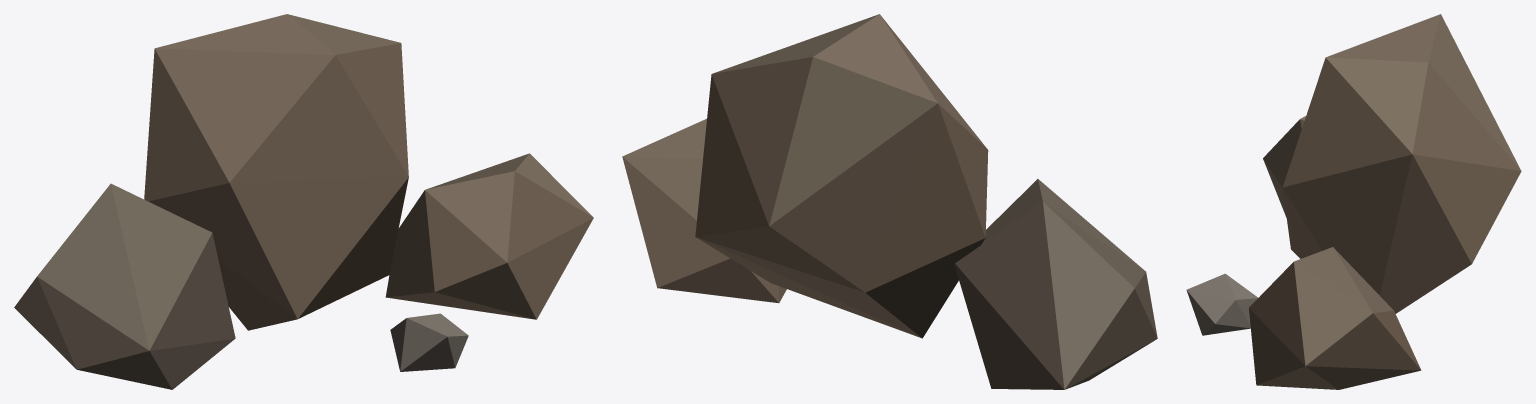
The model's file is tl_env_rock_cluster_b_v01.glb.
3 views of the same model, side by side, from view 1: azimuth 30°, elevation 25°; view 2: azimuth 150°, elevation 25°; view 3: azimuth 270°, elevation 25° (orthographic). The views are drawn at different scales.
Visible parts, largest first — view 1: tl_env_rock_cluster_b_v01; view 2: tl_env_rock_cluster_b_v01; view 3: tl_env_rock_cluster_b_v01.
Boxes of the visible parts, x1,y1,x2,y2 form: tl_env_rock_cluster_b_v01: (14, 14, 593, 389); tl_env_rock_cluster_b_v01: (622, 14, 1157, 389); tl_env_rock_cluster_b_v01: (1186, 14, 1521, 389).
Bounding box in the file's own units: 3.03 × 1.55 × 1.85.
